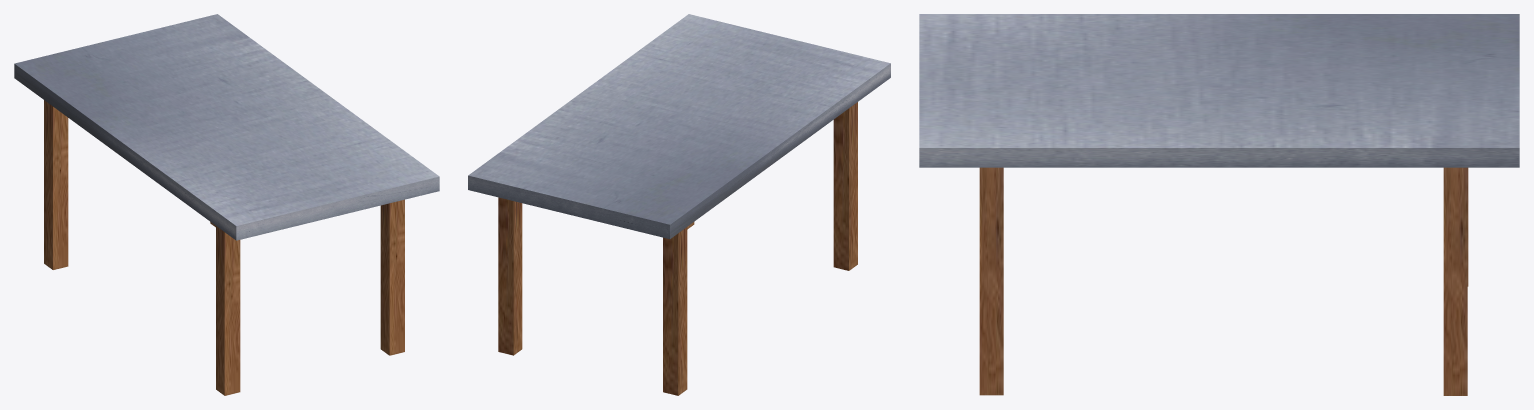
Rendered from TABLE.fbx.
3 views of the same model, side by side, from view 1: azimuth 30°, elevation 25°; view 2: azimuth 150°, elevation 25°; view 3: azimuth 270°, elevation 25° (orthographic). The views are drawn at different scales.
Visible parts, largest first — view 1: pCube2, pasted__pCube1 (×2), pCube1; view 2: pCube2, pasted__pCube1, pCube1, pasted__pCube2; view 3: pCube2, pasted__pCube2, pasted__pCube1.
Boxes of the visible parts, x1,y1,x2,y2 form: pCube2: [14, 14, 439, 240]; pasted__pCube1 (×2): [44, 100, 404, 355]; pCube1: [216, 226, 240, 395]; pCube2: [468, 14, 890, 238]; pasted__pCube1: [663, 227, 687, 395]; pCube1: [833, 102, 857, 270]; pasted__pCube2: [498, 197, 522, 355]; pCube2: [919, 14, 1519, 167]; pasted__pCube2: [1443, 167, 1467, 395]; pasted__pCube1: [979, 167, 1003, 395].
Bounding box in the file's own units: 3.64 × 3.23 × 6.89.
